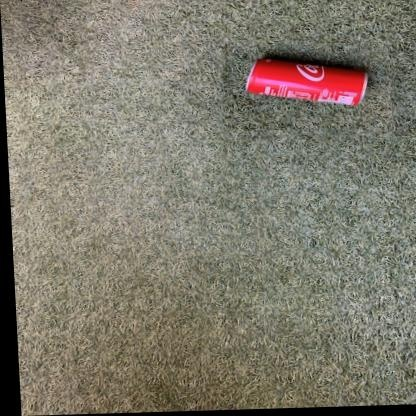trash: (246, 59, 366, 105)
